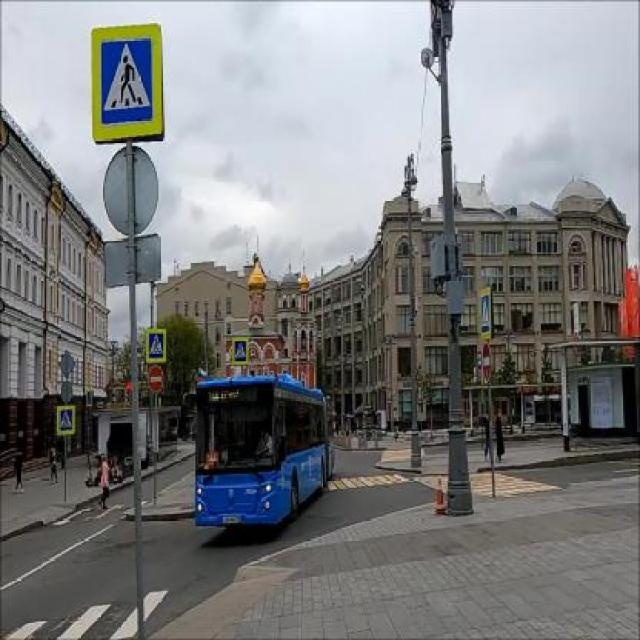Bus: (195, 375, 331, 533)
